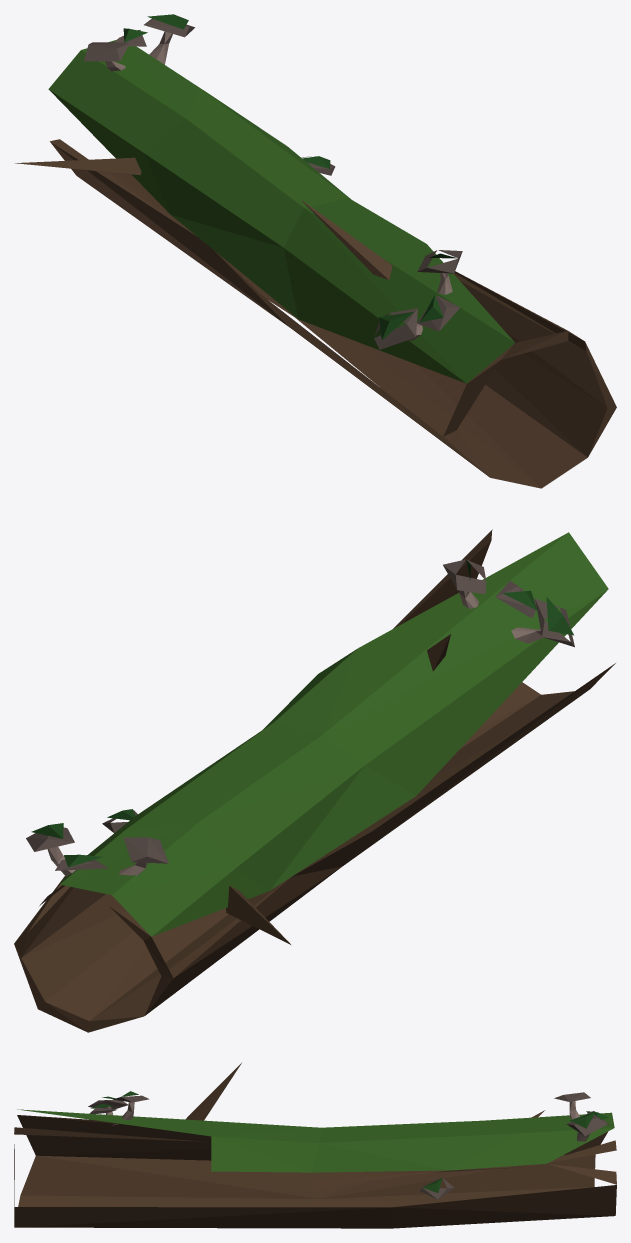
Rendered from p_log.glb.
3 views of the same model, one above another, from view 1: azimuth 30°, elevation 25°; view 2: azimuth 150°, elevation 25°; view 3: azimuth 270°, elevation 25° (orthographic). The views are drawn at different scales.
Parts seen in each view (by area): view 1: p_log; view 2: p_log; view 3: p_log.
Boxes of the visible parts, <box> form: p_log: <box>15,14,616,488</box>; p_log: <box>14,529,615,1032</box>; p_log: <box>14,1063,616,1228</box>.
Bounding box in the file's own units: 0.8896 × 0.6652 × 2.67.
